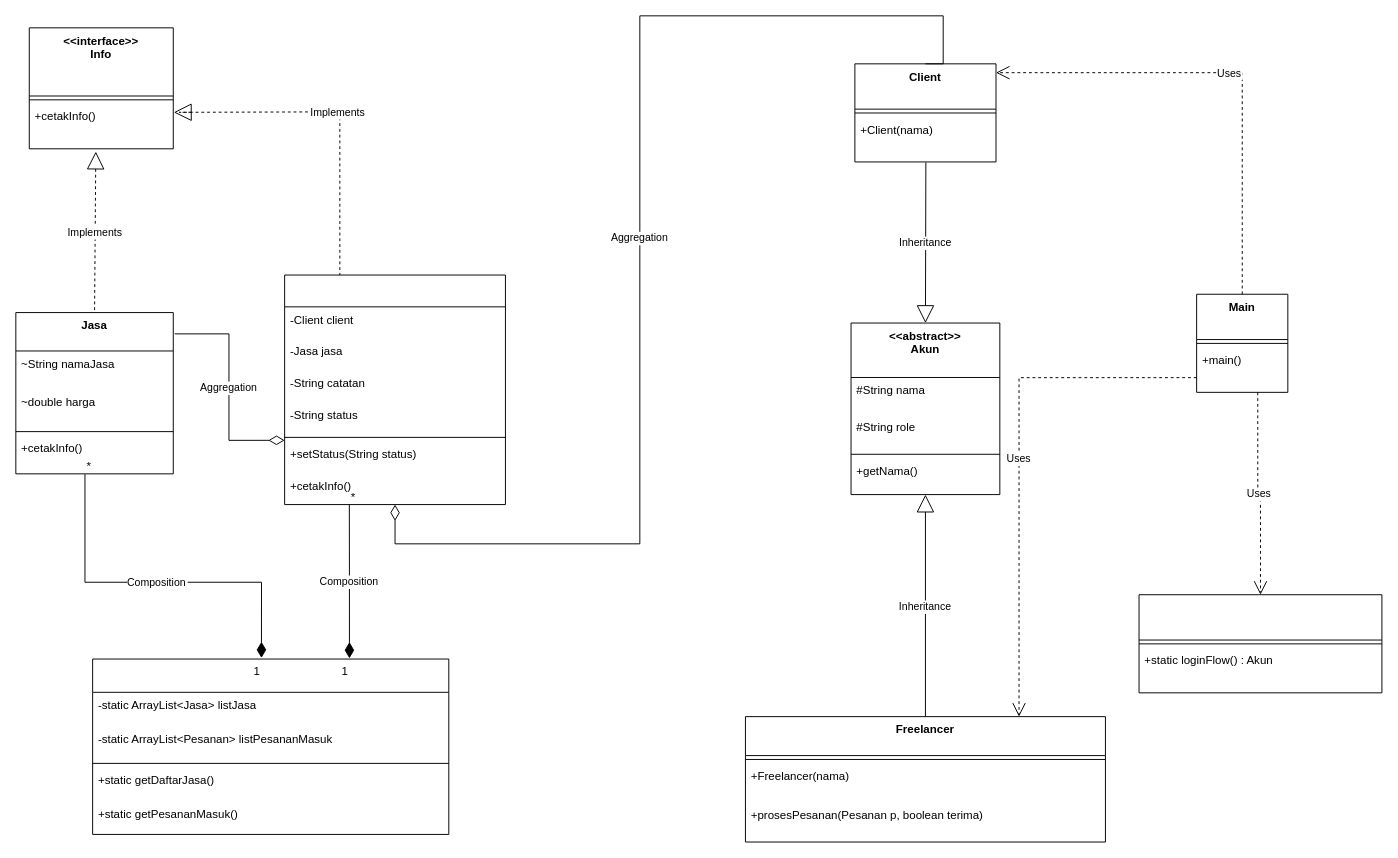
Some shapes in this 1398 by 858 pixel diagram are drawn without their labels. Here are the shapes that lost their labels. From the top down, the box of each, then its label:
(284, 274, 505, 505): Pesanan
(1138, 594, 1382, 693): LoginSystem
(92, 658, 449, 834): DBJasa
